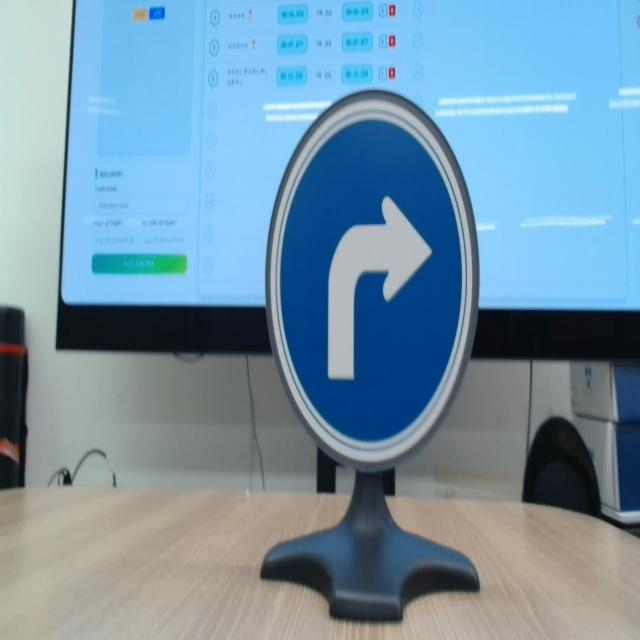right_dierection: (259, 88, 482, 472)
